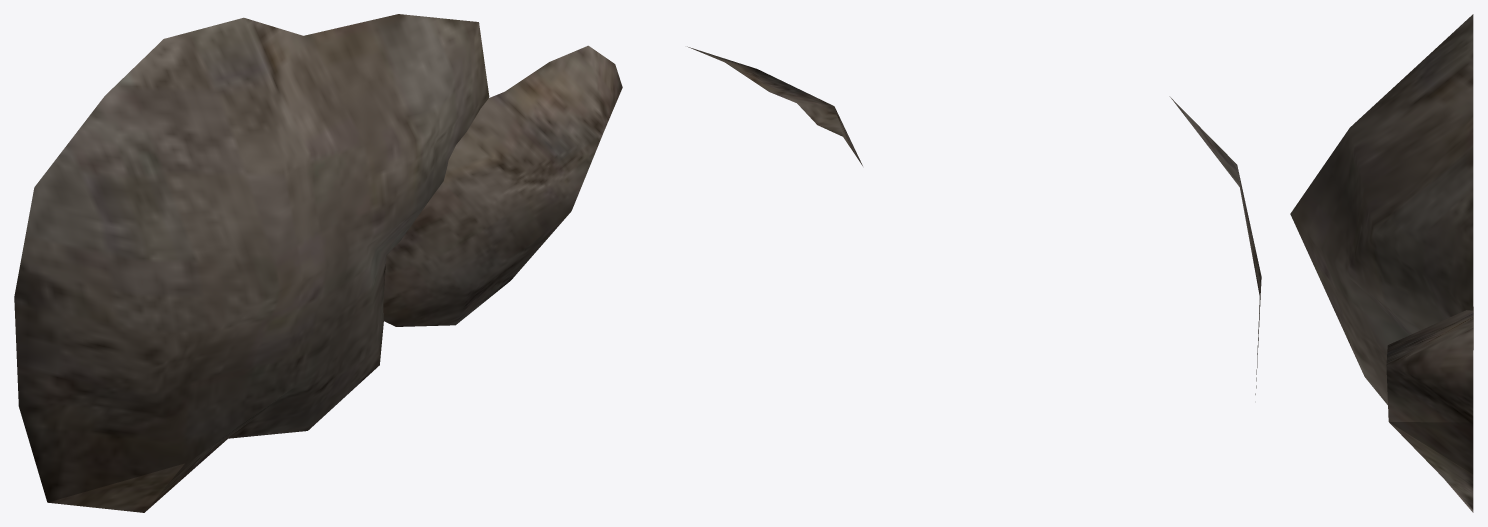
Rendered from prop_toujane_roadrock8.glb.
The picture shows the model from 3 angles, left to right: view 1: azimuth 30°, elevation 25°; view 2: azimuth 150°, elevation 25°; view 3: azimuth 270°, elevation 25°; orthographic projection.
Bounding box in the file's own units: 21.91 × 16.2 × 5.73.
Materials: 1 (1 with a texture image).
